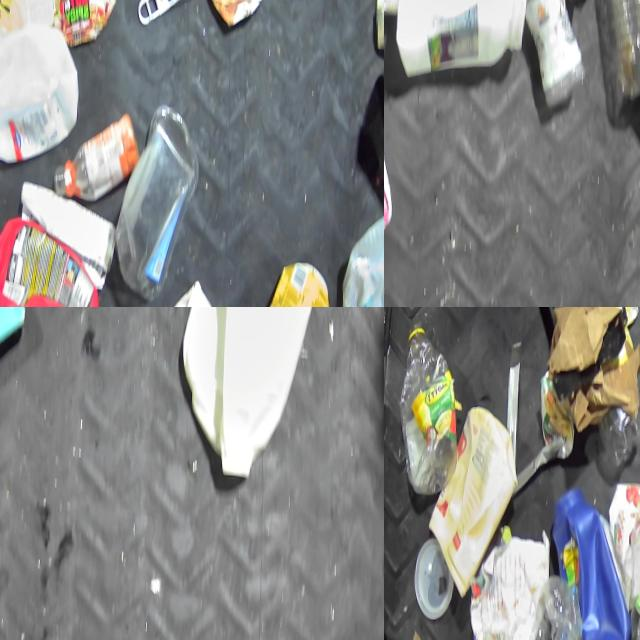milk_jug: (177, 307, 319, 475), (0, 16, 77, 163), (397, 0, 529, 77), (340, 189, 384, 307)
non_white_jug: (547, 481, 636, 640), (0, 211, 106, 307)
plastic_bottle: (395, 318, 462, 498), (53, 98, 140, 190), (513, 568, 586, 640), (592, 0, 640, 92)
